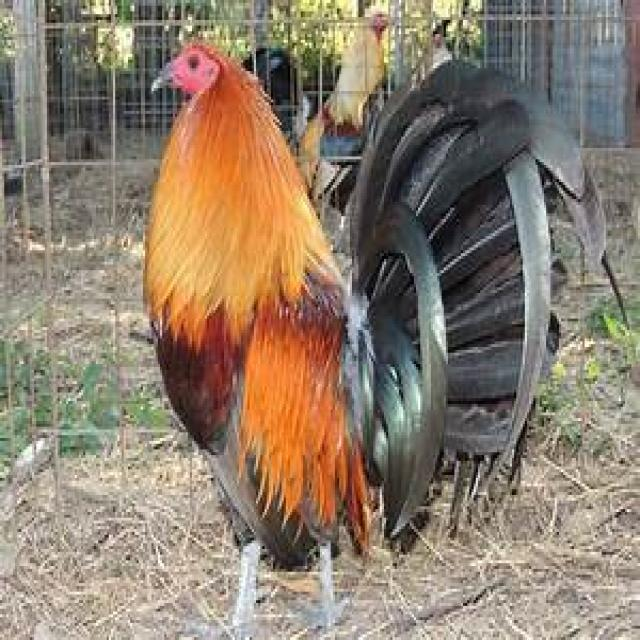hen: (145, 45, 368, 564)
